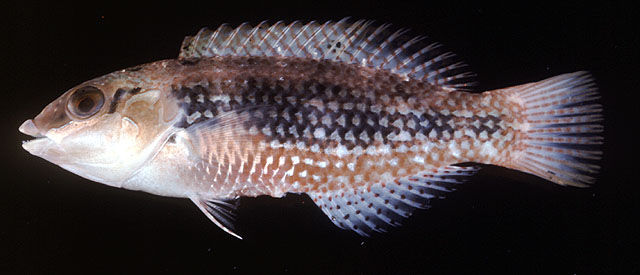fish: (19, 17, 606, 241)
